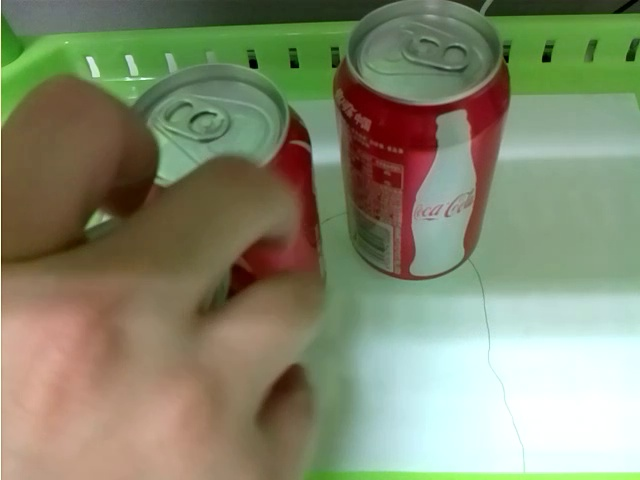cocacola: (334, 2, 511, 283), (117, 65, 321, 287)
hand: (1, 76, 329, 474)
